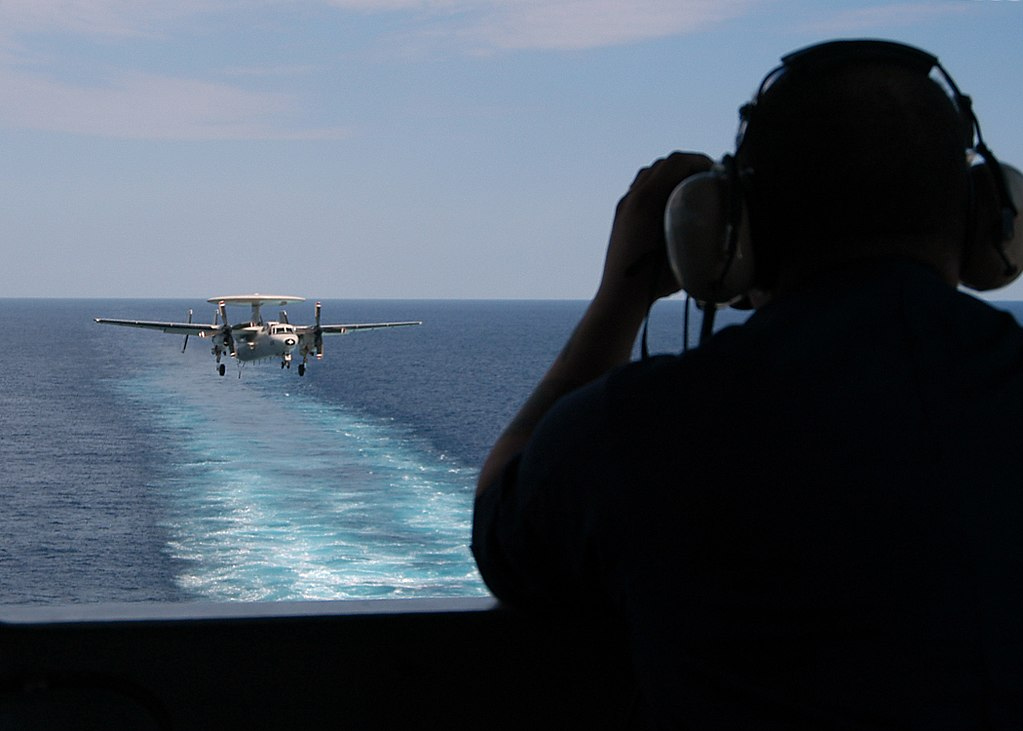E2: (92, 292, 423, 379)
